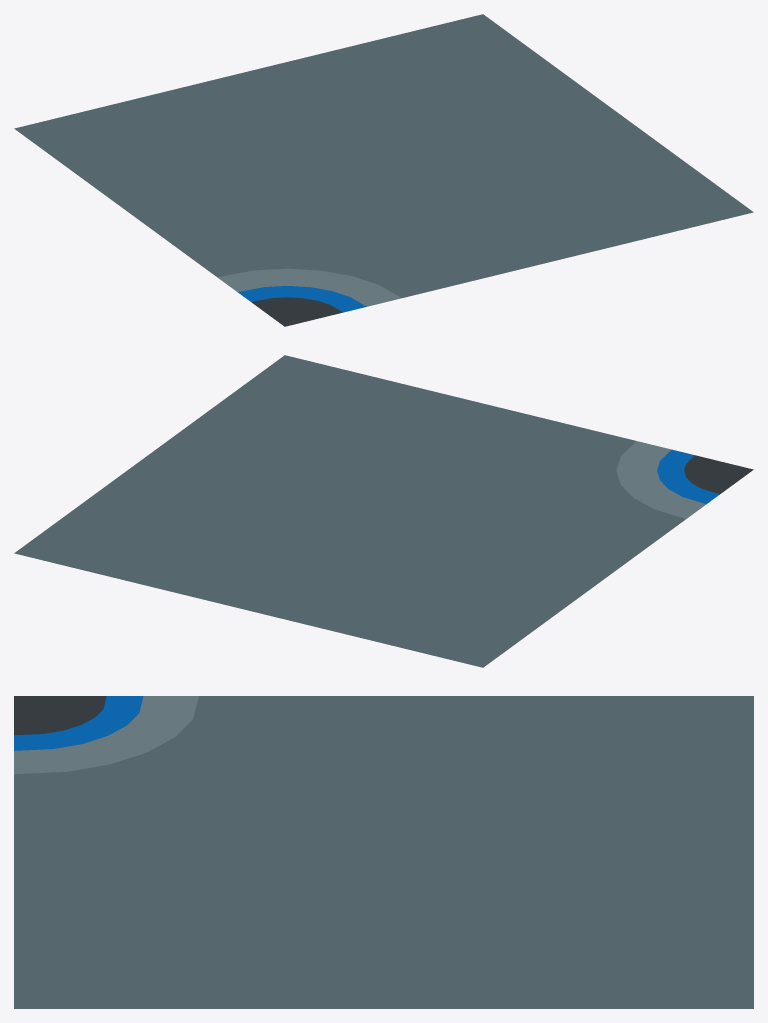
Rendered from Ceiling_type_C_011.fbx.
The picture shows the model from 3 angles, top to bottom: view 1: azimuth 30°, elevation 25°; view 2: azimuth 150°, elevation 25°; view 3: azimuth 270°, elevation 25°; orthographic projection. The views are drawn at different scales.
Parts seen in each view (by area): view 1: Ceiling_type_C_011; view 2: Ceiling_type_C_011; view 3: Ceiling_type_C_011.
Boxes of the visible parts, x1,y1,x2,y2 form: Ceiling_type_C_011: [14, 14, 753, 326]; Ceiling_type_C_011: [14, 355, 753, 667]; Ceiling_type_C_011: [14, 696, 753, 1008].
Bounding box in the file's own units: 400 × 400 × 5.66.
